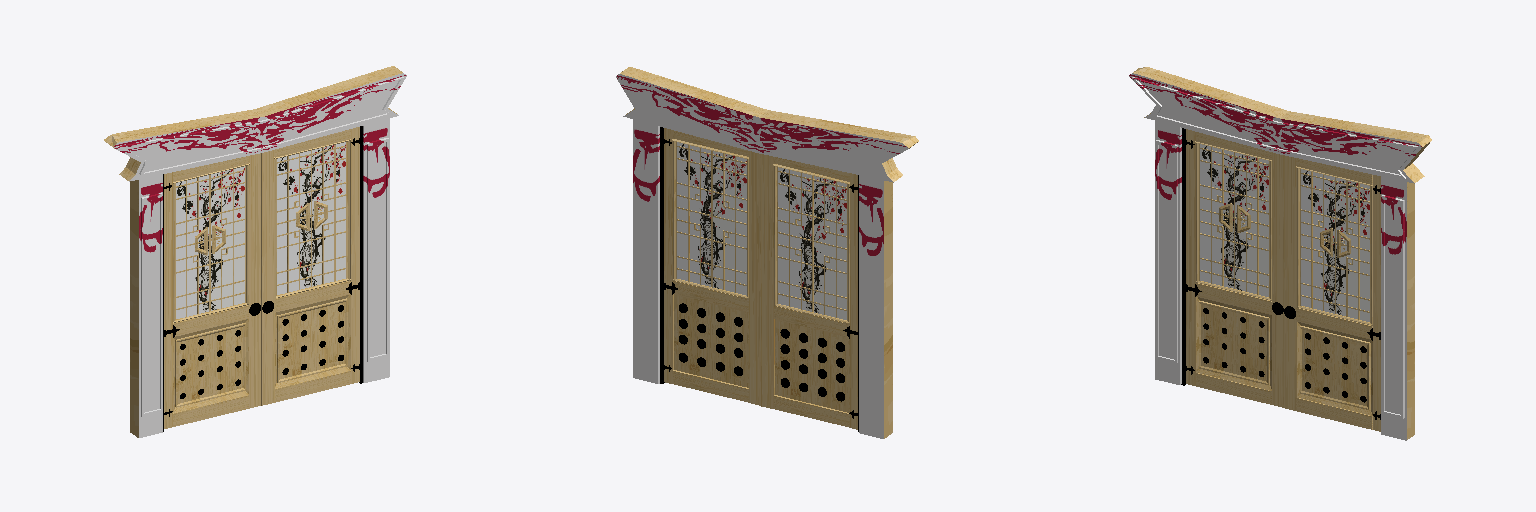
The picture shows the model from 3 angles: view 1: azimuth 30°, elevation 25°; view 2: azimuth 150°, elevation 25°; view 3: azimuth 330°, elevation 25°; orthographic projection.
Parts seen in each view (by area): view 1: Door; view 2: Door; view 3: Door.
Boxes of the visible parts, box(x1,y1,x2,y2) form: Door: box(104, 66, 406, 437); Door: box(616, 67, 918, 438); Door: box(1129, 67, 1431, 440).
Size of the model in its own units: 11.91 by 11.72 by 0.7859.
Materials: 4 (3 with a texture image).